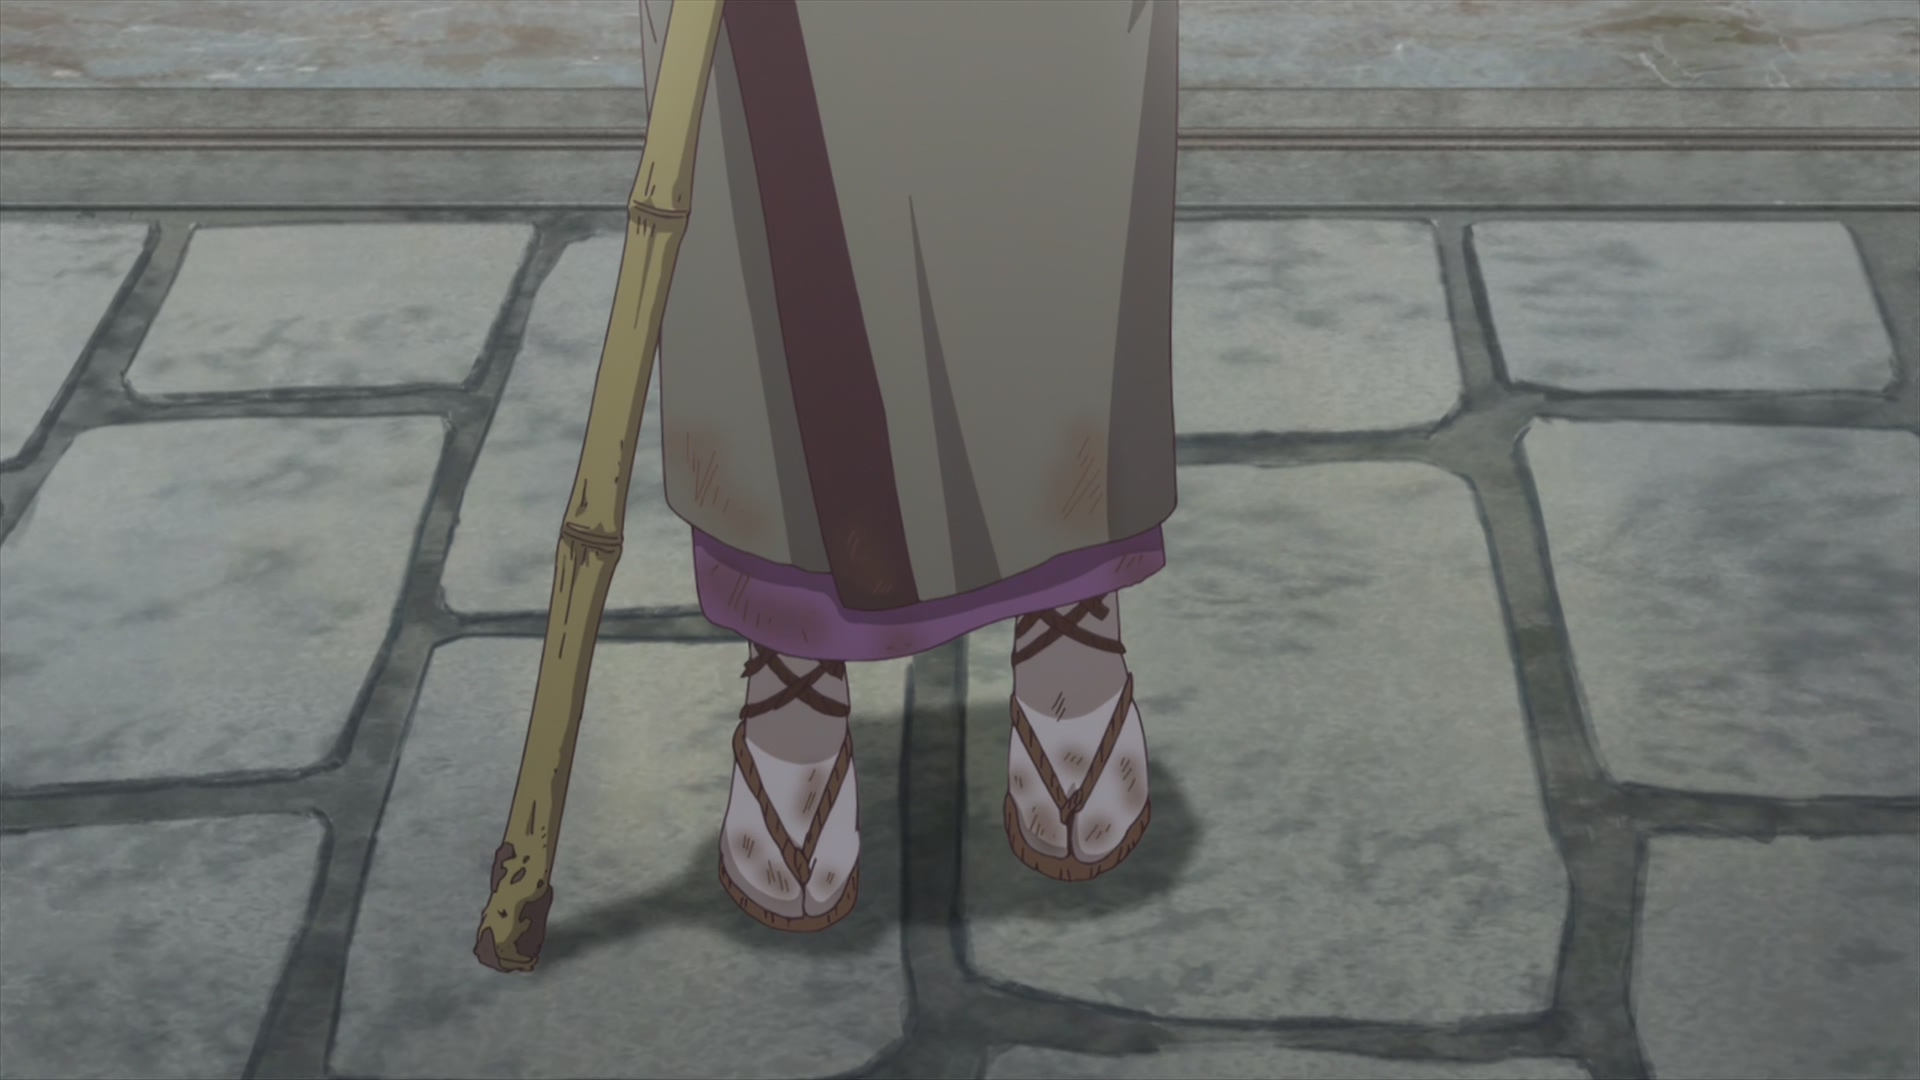其他: (641, 1, 1182, 932)
